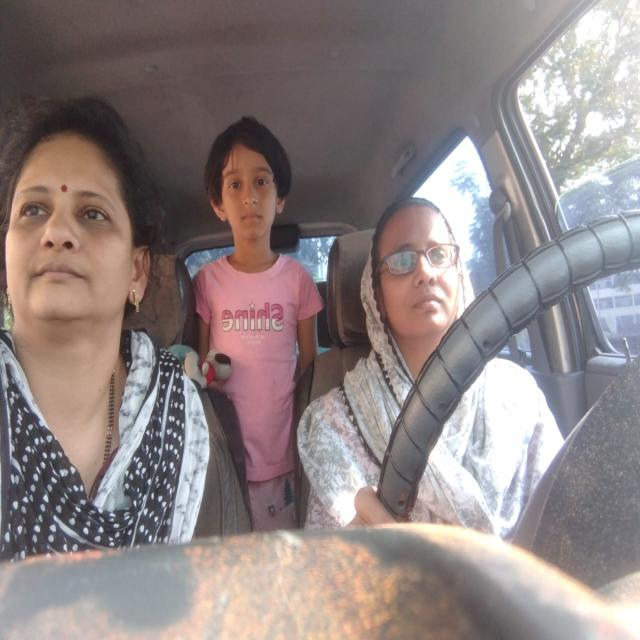person: (2, 100, 151, 350), (359, 183, 473, 358), (202, 108, 292, 249)
